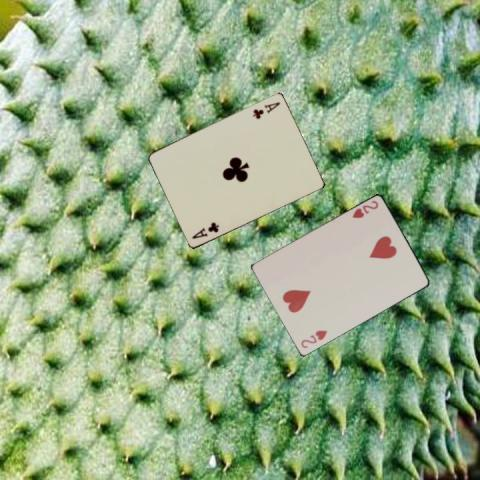2h: (349, 198, 380, 220), (298, 327, 329, 349)
Ac: (189, 219, 221, 240), (250, 99, 281, 120)
